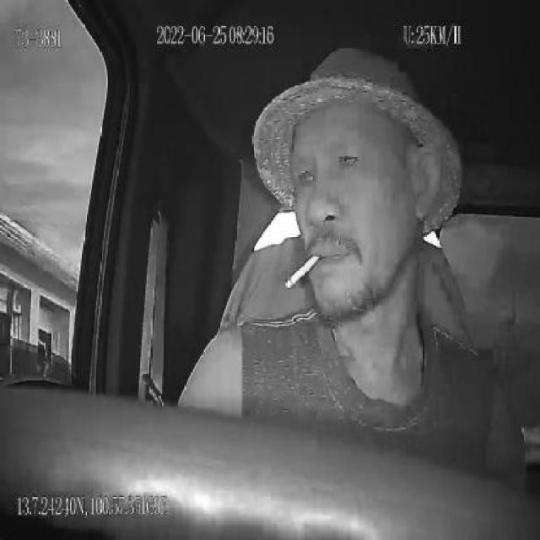smoking: (285, 252, 321, 291)
